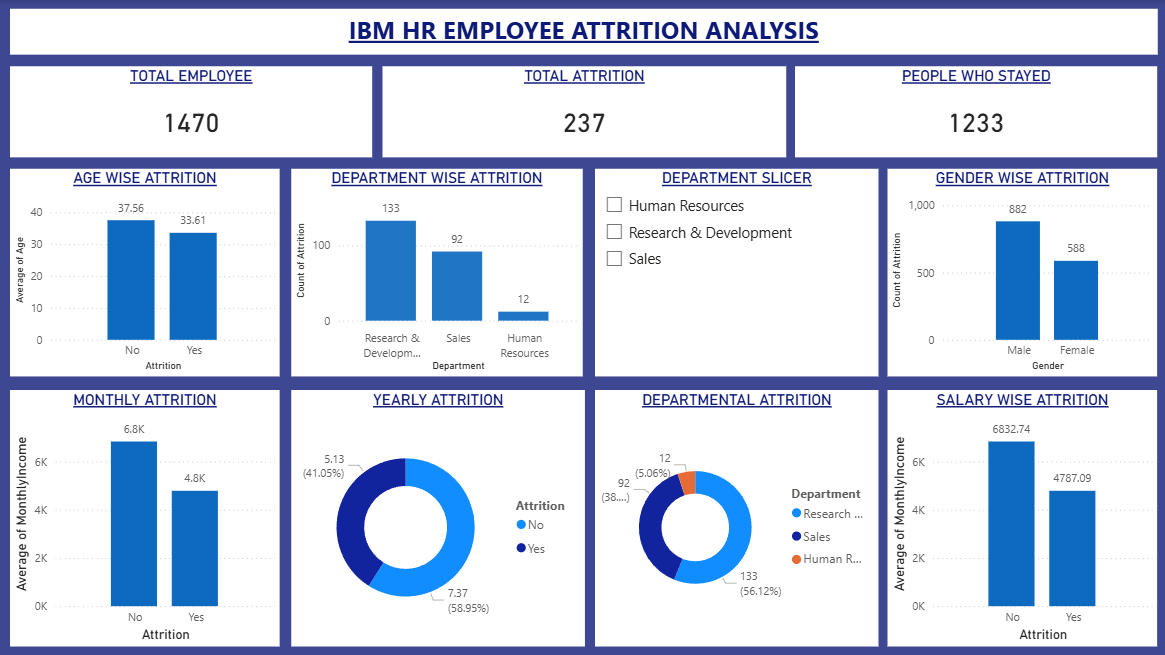

The page's visual inventory and layout, read from the dashboard file:
{"tool":"powerbi","page":{"name":"Page 1","canvas":[1280,720],"ordinal":0},"visuals":[{"type":"clusteredColumnChart","title":"AGE WISE ATTRITION","fields":{"Category":["clean_hr.Attrition"],"Y":["Avg(clean_hr.Age)"]},"box":[11,185.2,296.4,227.8],"z":0},{"type":"donutChart","title":"DEPARTMENTAL ATTRITION","fields":{"Y":["CountNonNull(clean_hr.Attrition)"],"Category":["clean_hr.Department"]},"box":[653.2,428.1,311.5,281.3],"z":1000},{"type":"clusteredColumnChart","title":"MONTHLY ATTRITION","fields":{"Category":["clean_hr.Attrition"],"Y":["Avg(clean_hr.MonthlyIncome)"]},"box":[11,428.1,296.4,281.3],"z":2000},{"type":"card","title":"TOTAL EMPLOYEE","fields":{"Values":["CountNonNull(clean_hr.Attrition)"]},"box":[11,72.7,397.9,100.2],"z":3000},{"type":"card","title":"TOTAL ATTRITION","fields":{"Values":["CountNonNull(clean_hr.Attrition)"]},"box":[419.9,72.7,443.2,100.2],"z":4000},{"type":"card","title":"PEOPLE WHO SAID NO","fields":{"Values":["CountNonNull(clean_hr.Attrition)"]},"box":[872.7,72.7,397.9,100.2],"z":5000},{"type":"columnChart","title":"DEPARTMENT WISE ATTRITION","fields":{"Category":["clean_hr.Department"],"Y":["CountNonNull(clean_hr.Attrition)"]},"box":[319.7,185.2,319.7,227.8],"z":6000},{"type":"clusteredColumnChart","title":"SALARY WISE ATTRITION","fields":{"Category":["clean_hr.Attrition"],"Y":["Avg(clean_hr.MonthlyIncome)"]},"box":[974.3,428.1,296.4,281.3],"z":7000},{"type":"columnChart","title":"GENDER WISE ATTRITION","fields":{"Category":["clean_hr.Gender"],"Y":["CountNonNull(clean_hr.Attrition)"]},"box":[974.3,185.2,296.4,227.8],"z":8000},{"type":"donutChart","title":"YEARLY ATTRITION","fields":{"Category":["clean_hr.Attrition"],"Y":["Avg(clean_hr.YearsAtCompany)"]},"box":[319.7,428.1,322.5,281.3],"z":9000},{"type":"textbox","box":[11,9.6,1259.7,50.8],"z":10000},{"type":"slicer","title":"DEPARTMENT SLICER","fields":{"Values":["clean_hr.Department"]},"box":[653.2,185.2,311.5,227.8],"z":11000}]}

Visuals, with their boxes in screenshot pixels (x1, y1, x2, y2), scaled from the page's 1280x720 canvas onto the 1165x655 screenshot:
"AGE WISE ATTRITION" clusteredColumnChart: bbox=[10, 168, 280, 376]
"DEPARTMENTAL ATTRITION" donutChart: bbox=[595, 389, 878, 645]
"MONTHLY ATTRITION" clusteredColumnChart: bbox=[10, 389, 280, 645]
"TOTAL EMPLOYEE" card: bbox=[10, 66, 372, 157]
"TOTAL ATTRITION" card: bbox=[382, 66, 786, 157]
"PEOPLE WHO SAID NO" card: bbox=[794, 66, 1156, 157]
"DEPARTMENT WISE ATTRITION" columnChart: bbox=[291, 168, 582, 376]
"SALARY WISE ATTRITION" clusteredColumnChart: bbox=[887, 389, 1157, 645]
"GENDER WISE ATTRITION" columnChart: bbox=[887, 168, 1157, 376]
"YEARLY ATTRITION" donutChart: bbox=[291, 389, 585, 645]
textbox: bbox=[10, 9, 1157, 55]
"DEPARTMENT SLICER" slicer: bbox=[595, 168, 878, 376]
